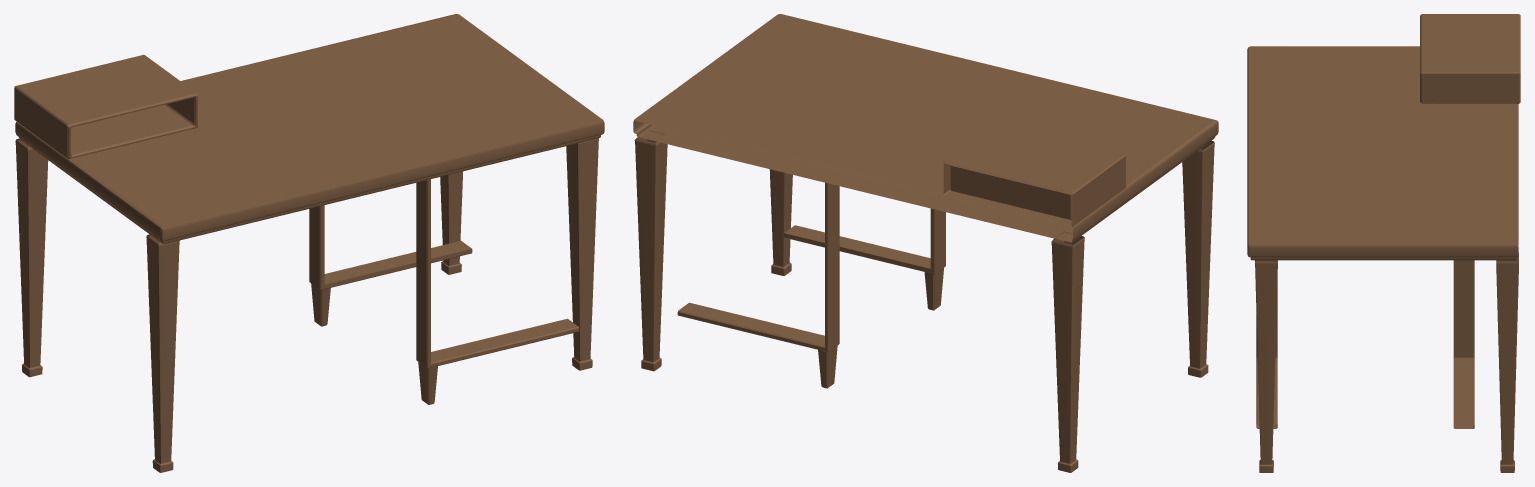
File: Desk.fbx
3 views of the same model, side by side, from view 1: azimuth 30°, elevation 25°; view 2: azimuth 150°, elevation 25°; view 3: azimuth 270°, elevation 25° (orthographic). The views are drawn at different scales.
Parts seen in each view (by area): view 1: Desk_Desk; view 2: Desk_Desk; view 3: Desk_Desk.
Part boxes in pixels (<box>): Desk_Desk: <box>14,14,604,472</box>; Desk_Desk: <box>633,14,1218,472</box>; Desk_Desk: <box>1247,14,1520,472</box>.
Bounding box in the file's own units: 8.08 × 4.96 × 4.67.
